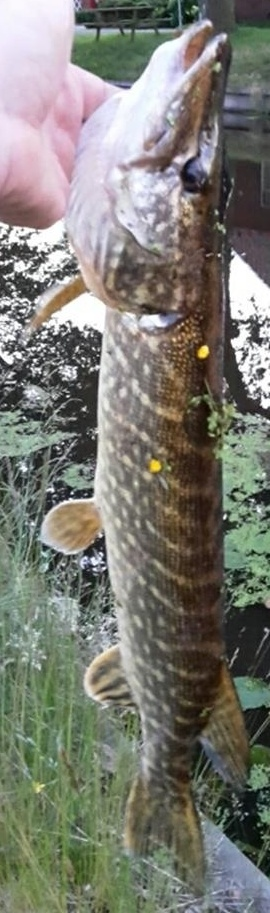Esox lucius: (20, 20, 250, 893)
